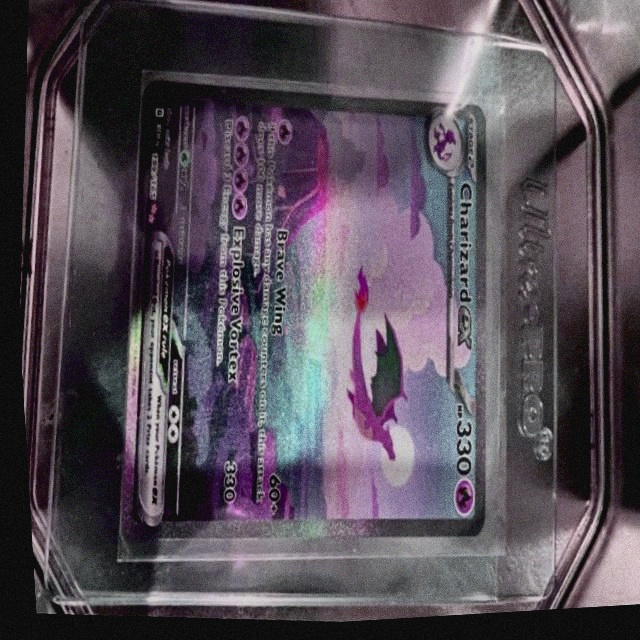card: (113, 82, 483, 548)
